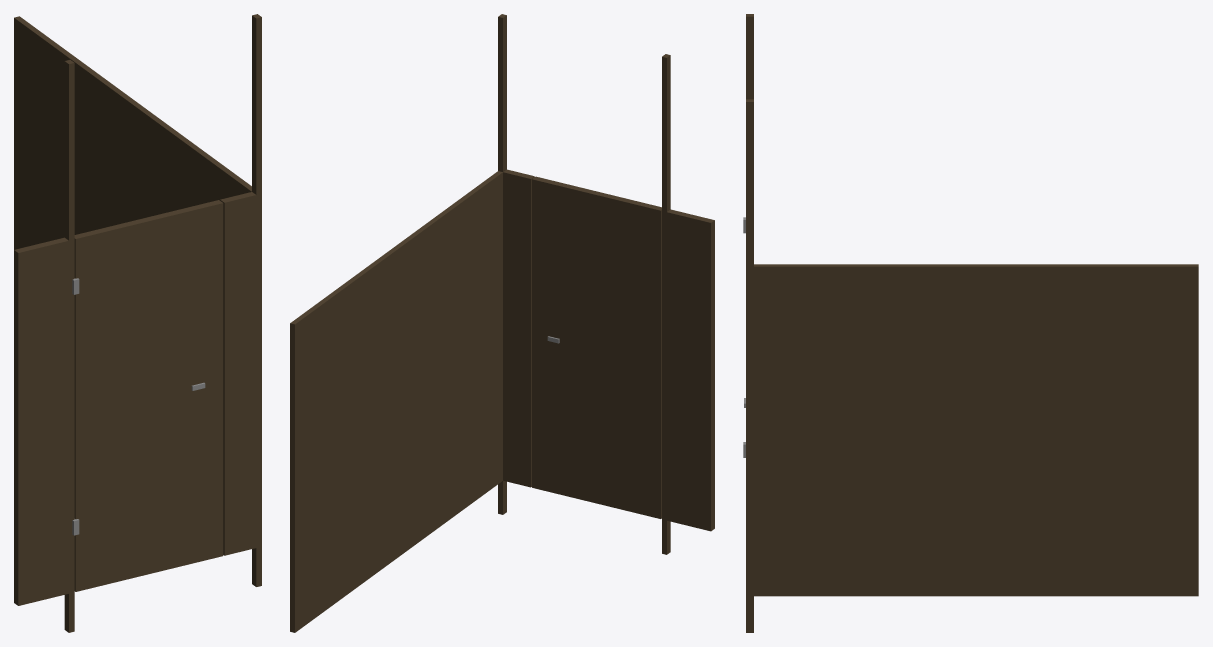
The model's file is ToiletStalls.fbx.
3 views of the same model, side by side, from view 1: azimuth 30°, elevation 25°; view 2: azimuth 150°, elevation 25°; view 3: azimuth 270°, elevation 25° (orthographic). The views are drawn at different scales.
Visible parts, largest first — view 1: Cube.002, Cube.001, Cube; view 2: Cube.001, Cube.002, Cube; view 3: Cube.001, Cube.
Boxes of the visible parts, x1,y1,x2,y2 form: Cube.002: [74, 200, 223, 591]; Cube.001: [14, 14, 261, 586]; Cube: [14, 60, 74, 632]; Cube.001: [290, 14, 534, 632]; Cube.002: [532, 176, 661, 518]; Cube: [662, 54, 714, 554]; Cube.001: [746, 99, 1198, 632]; Cube: [746, 14, 753, 99].
Bounding box in the file's own units: 130 × 290 × 225.
